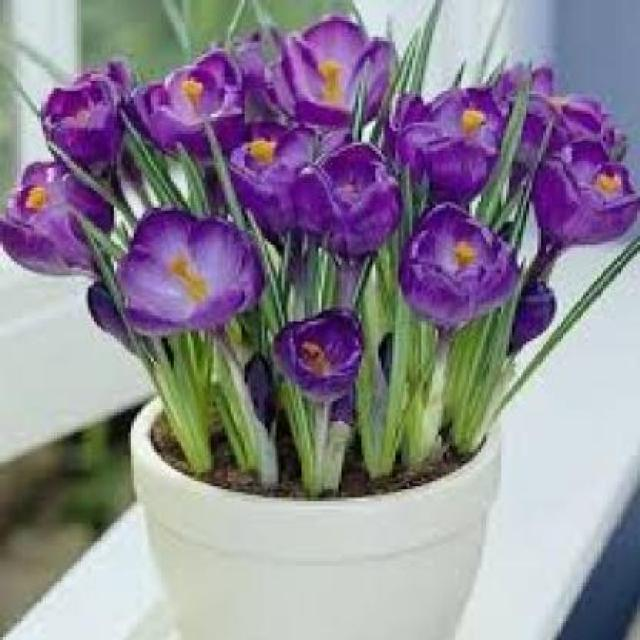saffron open: (116, 210, 264, 336), (399, 202, 516, 329), (391, 88, 505, 202), (278, 15, 394, 127), (0, 160, 112, 274), (294, 142, 402, 259), (132, 49, 244, 158), (532, 140, 640, 244), (40, 61, 131, 172), (230, 122, 312, 237), (274, 309, 362, 402)
